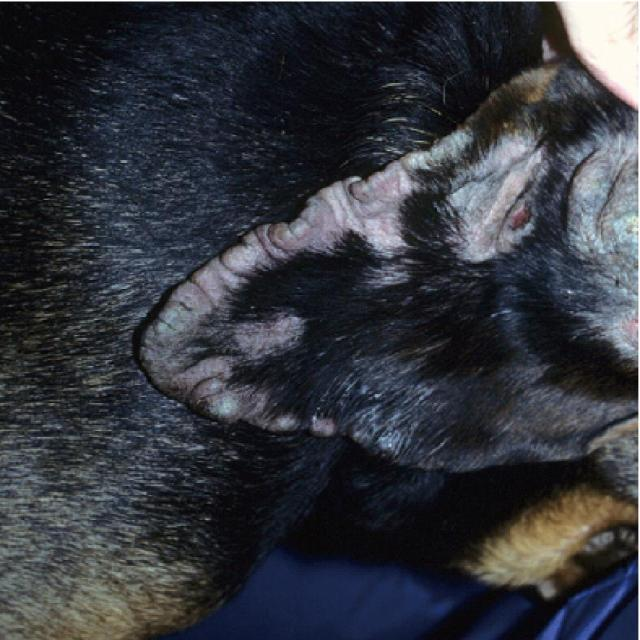mange: (145, 260, 269, 419), (208, 365, 336, 440), (260, 198, 343, 259), (206, 238, 258, 296)
